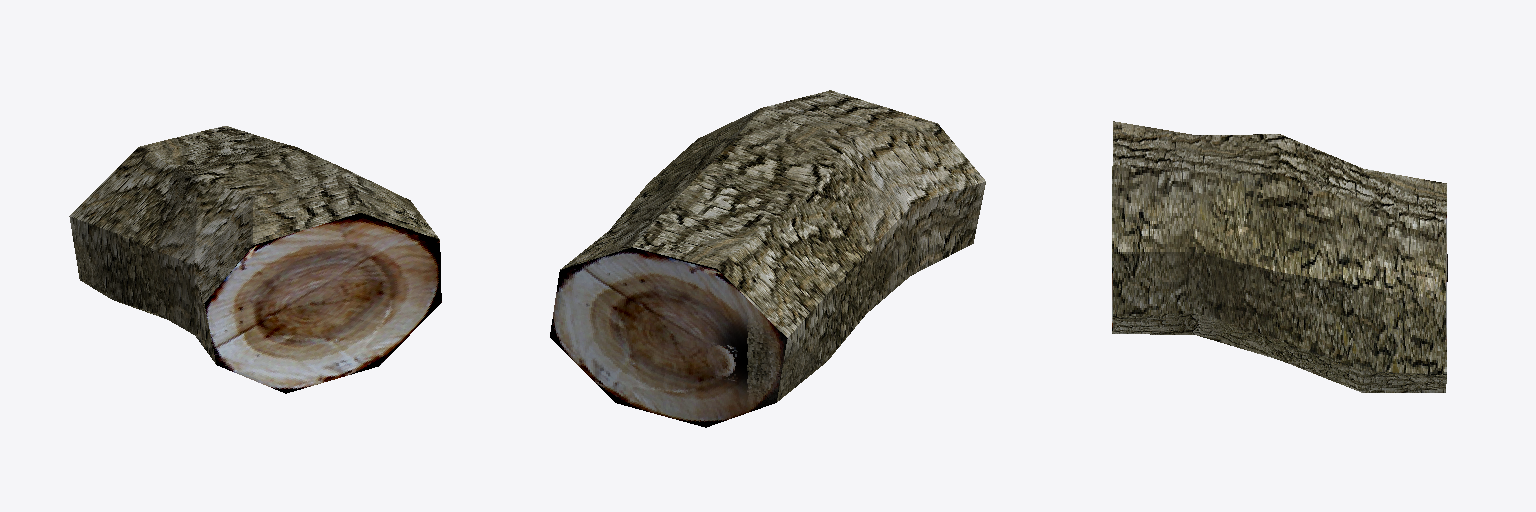
3 views of the same model, side by side, from view 1: azimuth 30°, elevation 25°; view 2: azimuth 150°, elevation 25°; view 3: azimuth 270°, elevation 25° (orthographic).
Parts seen in each view (by area): view 1: trunk1; view 2: trunk1; view 3: trunk1.
Part boxes in pixels (x1,y1,x2,y2): trunk1: (69,126,441,393); trunk1: (550,90,985,427); trunk1: (1112,121,1447,392).
Size of the model in its own units: 8.86 by 6.63 by 9.53.
Materials: 1 (1 with a texture image).